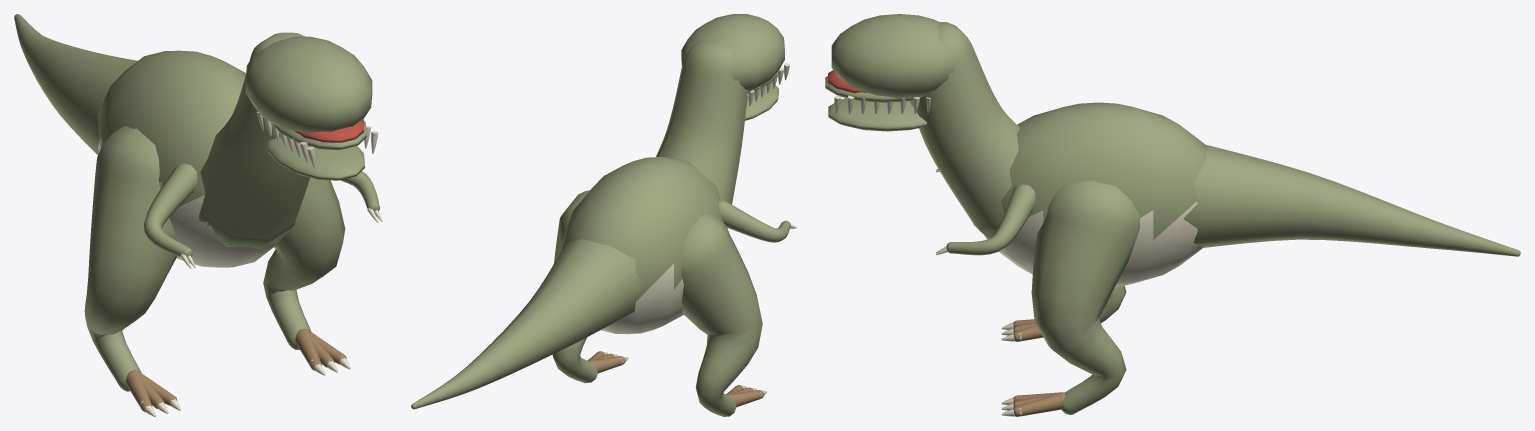
The model's file is dinosaurs-and-prehistoric-life-tyrannosaurus-roaring-70ba5f9b__4895.glb.
3 views of the same model, side by side, from view 1: azimuth 30°, elevation 25°; view 2: azimuth 150°, elevation 25°; view 3: azimuth 270°, elevation 25° (orthographic). The views are drawn at different scales.
Parts seen in each view (by area): view 1: tyrannosaurus-roaring; view 2: tyrannosaurus-roaring; view 3: tyrannosaurus-roaring.
Part boxes in pixels (bbox=[...]): tyrannosaurus-roaring: bbox=[14, 14, 382, 416]; tyrannosaurus-roaring: bbox=[411, 14, 796, 416]; tyrannosaurus-roaring: bbox=[825, 14, 1520, 416].
Bounding box in the file's own units: 4.44 × 6.77 × 12.
